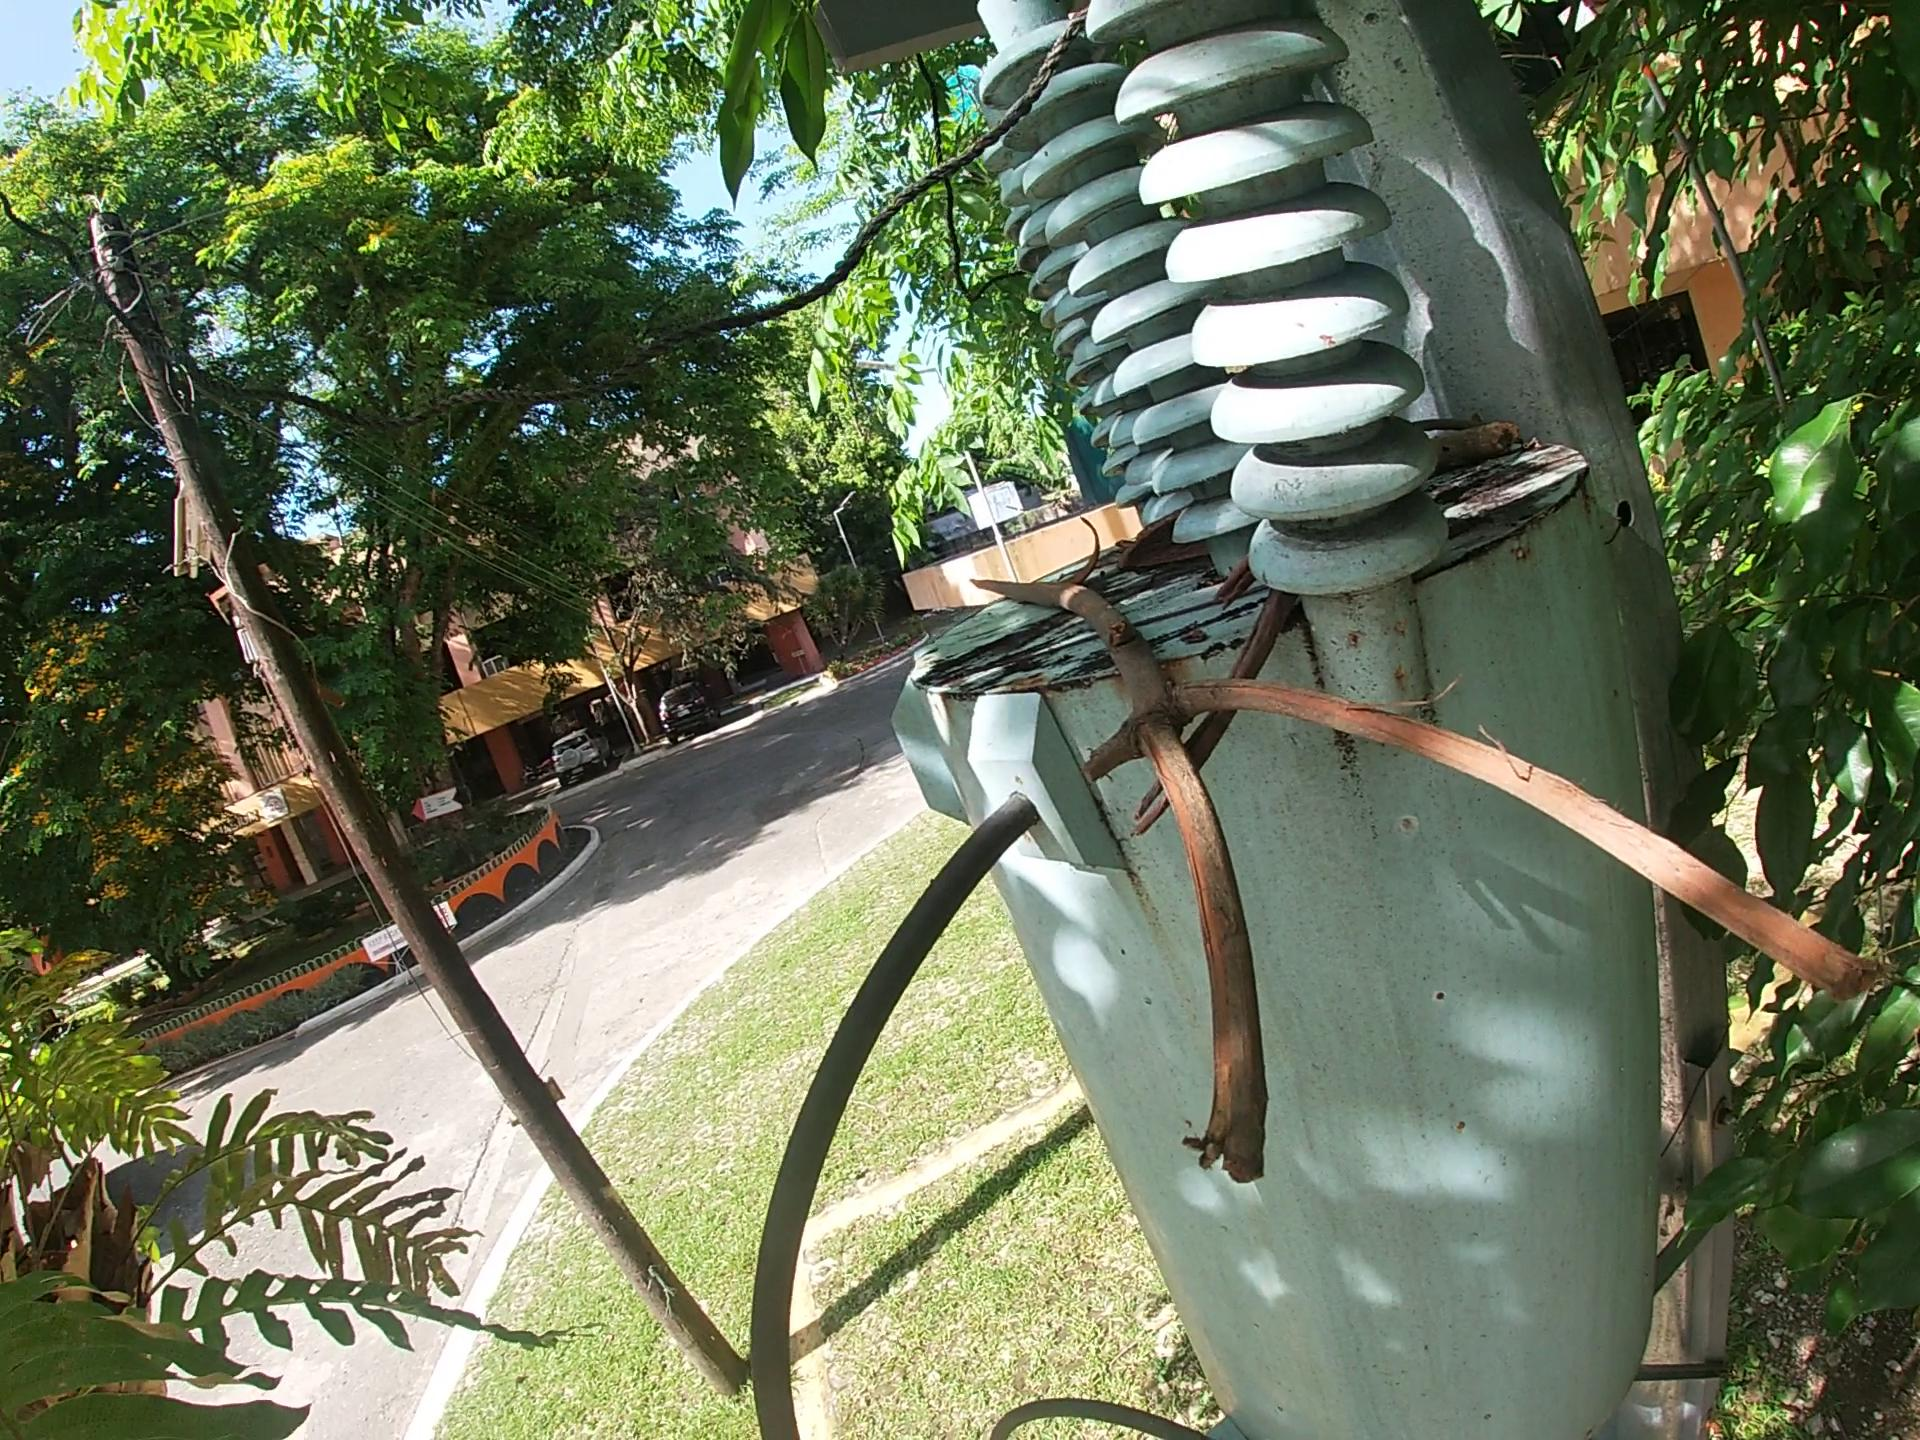mahogany fruit: (1113, 508, 1194, 581), (1066, 511, 1107, 590)
tree branch: (963, 569, 1894, 1195), (1116, 557, 1305, 858), (1407, 413, 1531, 478)
